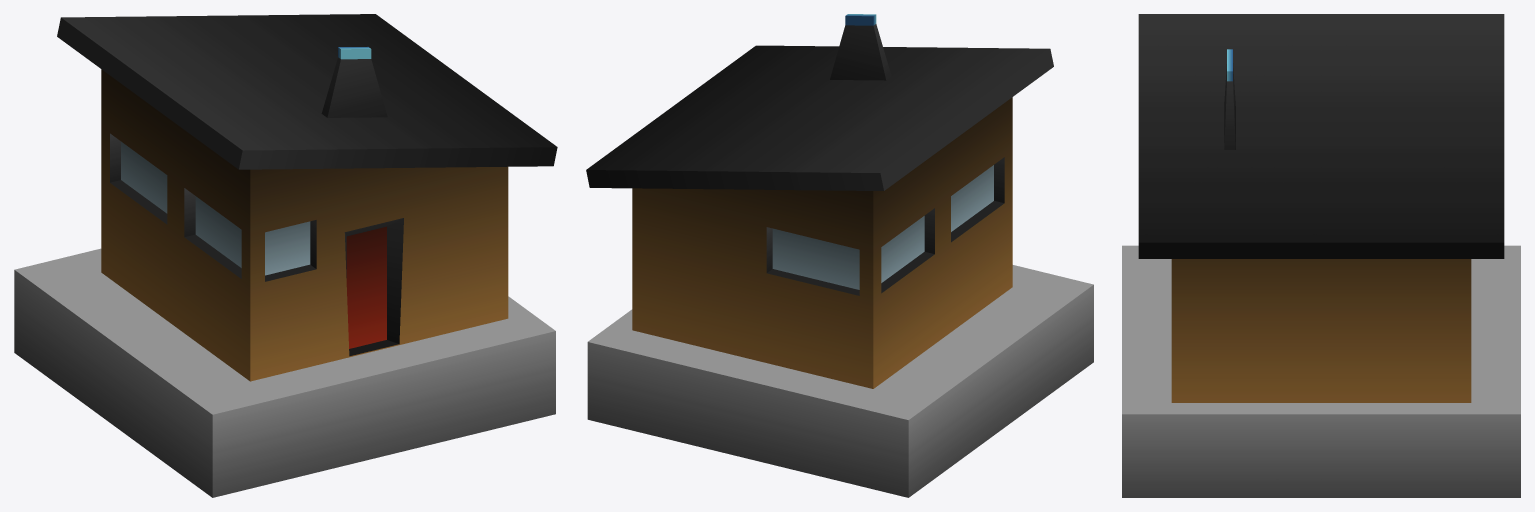
File: Structure_Checkpoint.fbx
The picture shows the model from 3 angles, left to right: view 1: azimuth 30°, elevation 25°; view 2: azimuth 150°, elevation 25°; view 3: azimuth 270°, elevation 25°; orthographic projection. The views are drawn at different scales.
Parts seen in each view (by area): view 1: Building_Checkpoint; view 2: Building_Checkpoint; view 3: Building_Checkpoint.
Part boxes in pixels (x1=…): Building_Checkpoint: x1=14, y1=14, x2=557, y2=497; Building_Checkpoint: x1=586, y1=14, x2=1093, y2=497; Building_Checkpoint: x1=1122, y1=14, x2=1520, y2=497.
Size of the model in its own units: 98.63 by 97.77 by 95.88.
